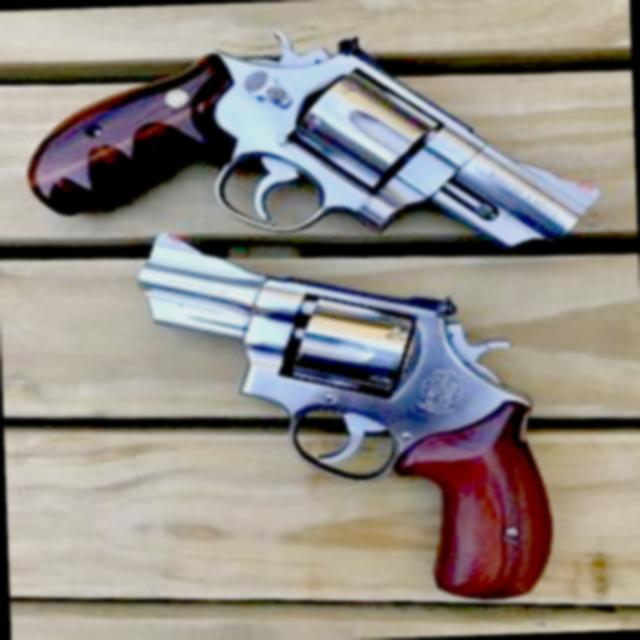revolver: (0, 0, 624, 289)
